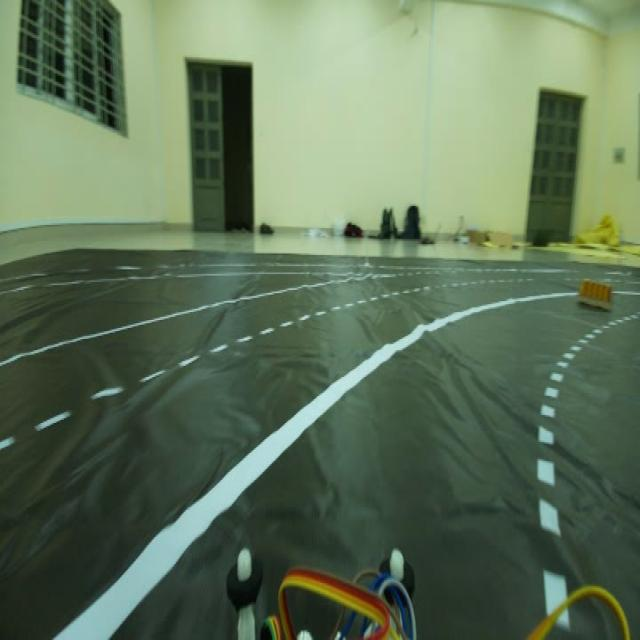roadblock: (572, 274, 618, 322)
